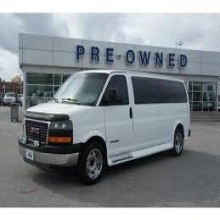no damage: (18, 69, 192, 183)
